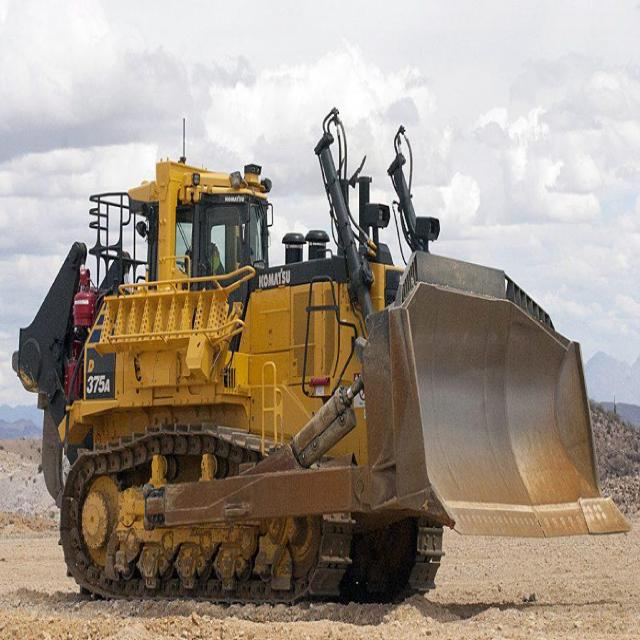Bulldozer: (15, 112, 636, 607)
